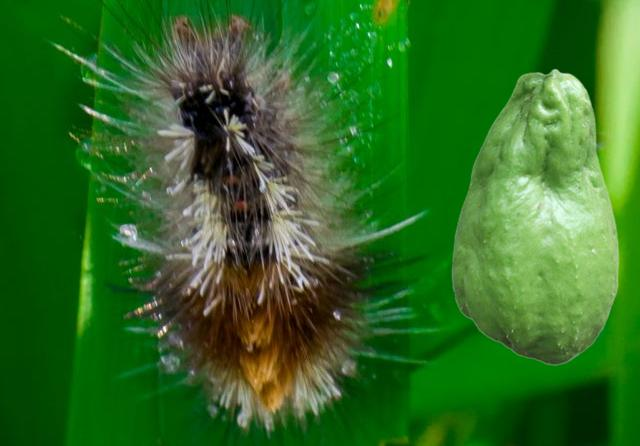sayote: (451, 68, 618, 364)
